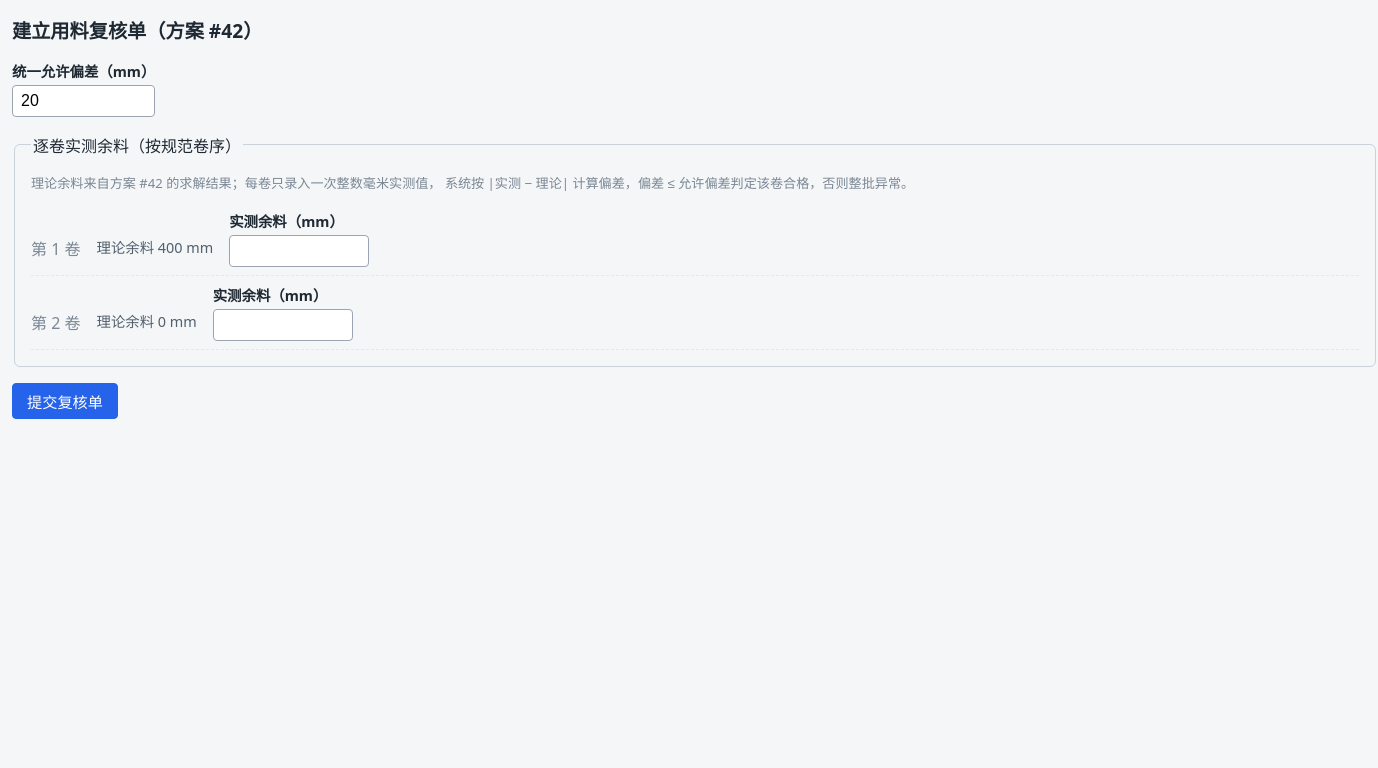
Test: NewReviewSheetPage › shows a conflict on 409, keeps the inputs and links the existing sheet
Type "380" into the number field with test id "measured-roll-1".
click(299, 251); type("380")  # box [229,235,369,267]
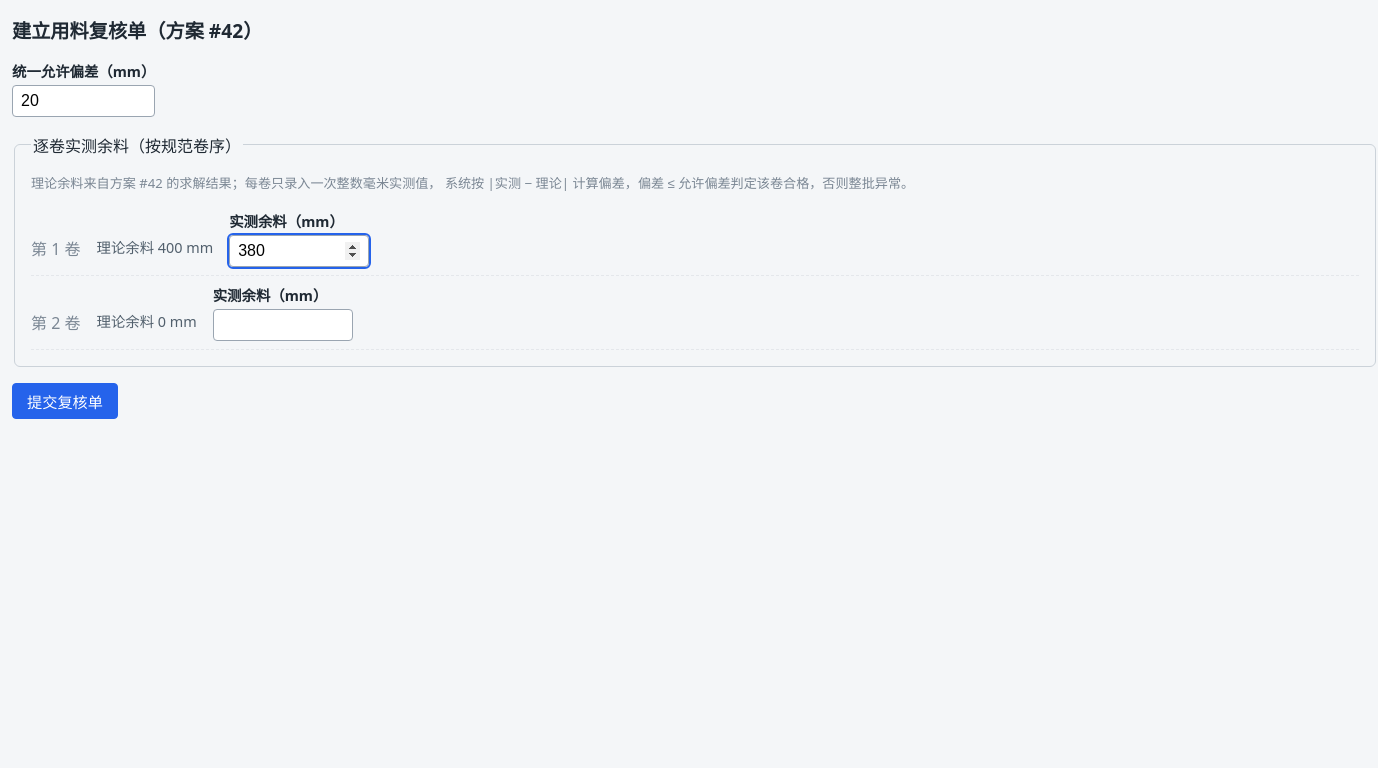
Type "20" into the number field with test id "measured-roll-2".
click(283, 325); type("20")  # box [213,309,353,341]
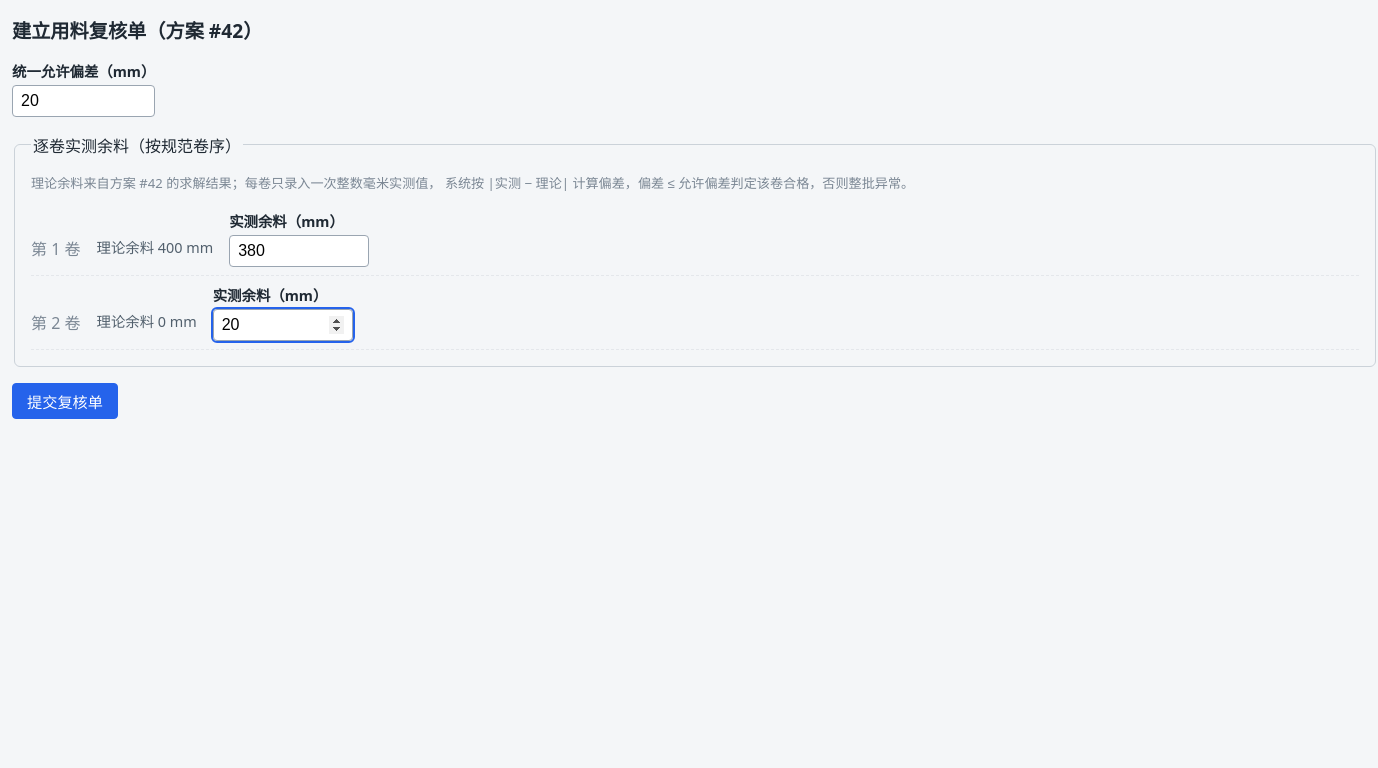
Click the button with test id "submit-review".
click(65, 401)  # box [12,383,118,419]
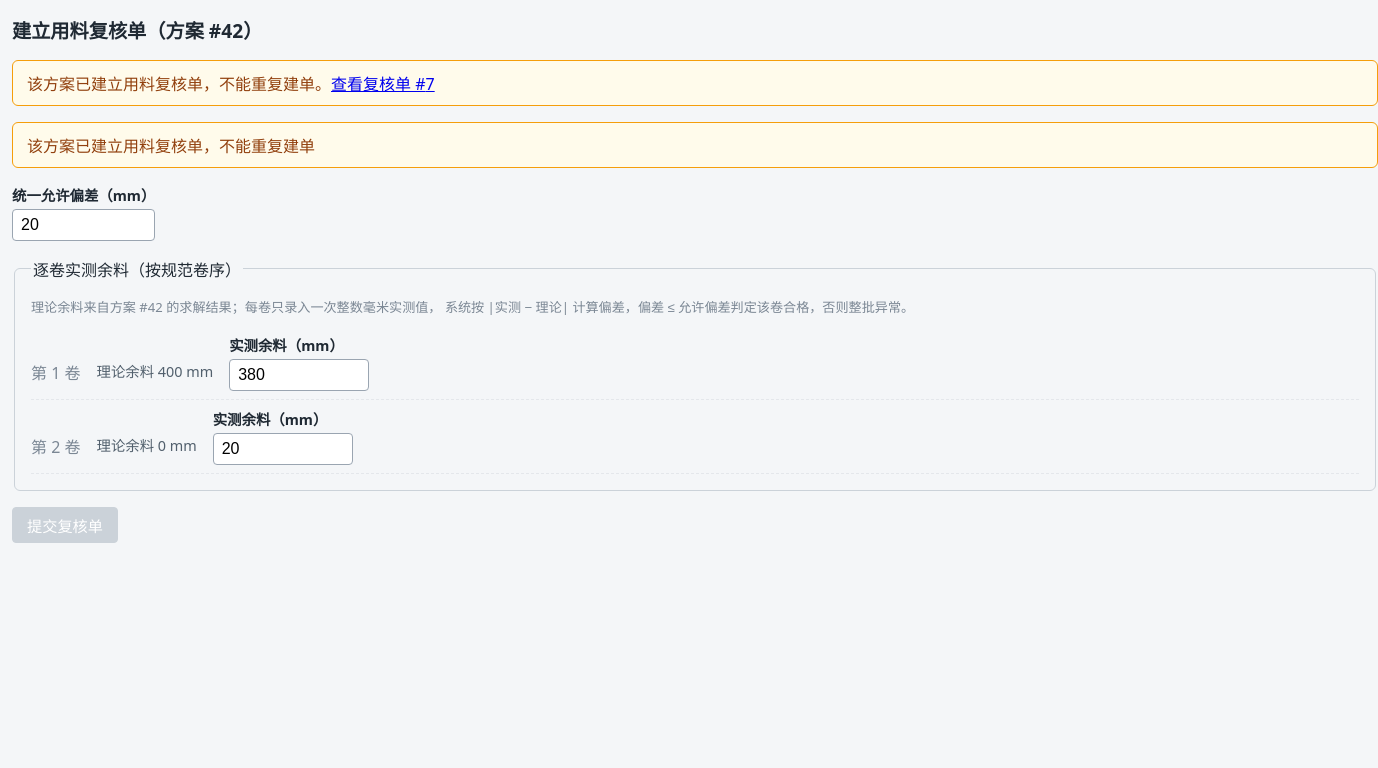
Check: the message "该方案已建立用料复核单，不能重复建单" is shown, box [12,122,1377,168]
Check: the message "该方案已建立用料复核单，不能重复建单。 查看复核单 #7" is shown, box [12,60,1377,106]
Check: the button with test id "submit-review" is disabled, box [12,507,118,543]
